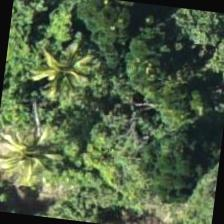Kelapa_Sawit: (0, 35, 86, 135), (0, 93, 79, 193)
